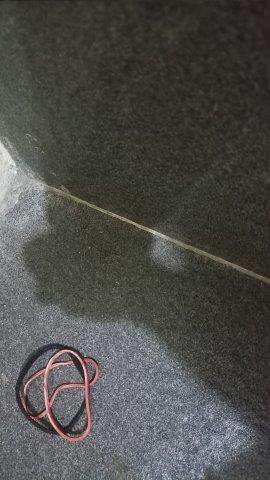karet: (15, 343, 99, 442)
